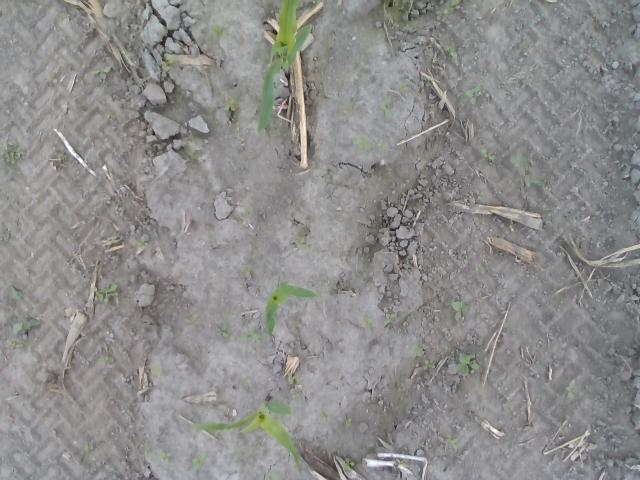Maize: (192, 393, 304, 474), (254, 0, 314, 136), (264, 282, 320, 337)
Weeds: (511, 148, 546, 188), (0, 134, 23, 166), (454, 349, 482, 374), (142, 447, 176, 465), (94, 282, 120, 304), (12, 316, 40, 336), (462, 80, 482, 106), (351, 132, 374, 154), (448, 298, 470, 320), (378, 94, 394, 122), (210, 21, 233, 40), (191, 451, 210, 474), (96, 344, 114, 368), (240, 326, 264, 344), (158, 54, 178, 74), (216, 326, 238, 342), (90, 64, 111, 80), (565, 377, 579, 401), (440, 0, 460, 16), (408, 342, 427, 358), (80, 442, 96, 460), (293, 232, 309, 250), (223, 95, 239, 112), (318, 408, 331, 426), (480, 149, 498, 162), (399, 80, 414, 95), (359, 319, 374, 334), (8, 286, 24, 300), (447, 48, 461, 64), (342, 457, 356, 472), (383, 312, 398, 326), (7, 340, 29, 349), (376, 142, 389, 154), (448, 436, 460, 448), (342, 102, 354, 114), (422, 360, 436, 370), (288, 373, 300, 384), (243, 206, 256, 216), (134, 239, 145, 250), (394, 458, 406, 468), (266, 473, 283, 480), (150, 366, 161, 376), (240, 264, 252, 273), (476, 190, 486, 200), (344, 418, 352, 430), (243, 376, 252, 385), (54, 152, 64, 160), (291, 393, 301, 401)
